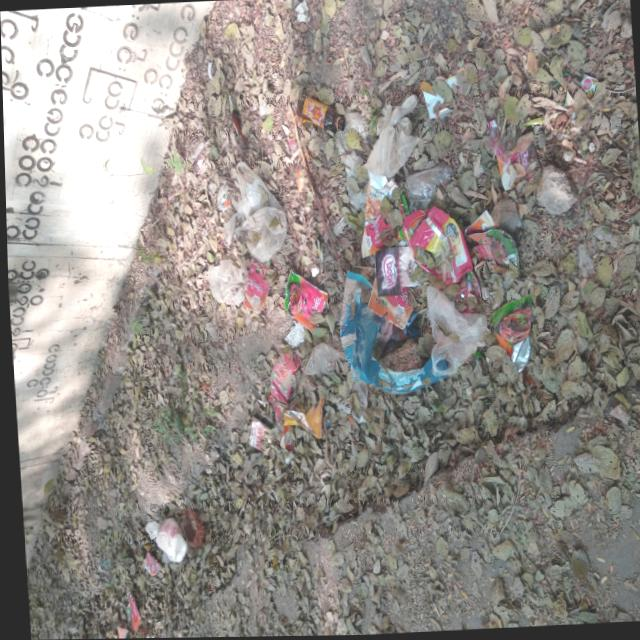Bottle-Glass: (286, 85, 348, 147)
Can-Metal: (131, 511, 184, 580)
Plastic: (325, 172, 416, 400), (477, 109, 549, 225), (355, 93, 433, 196), (227, 155, 293, 270), (396, 206, 472, 291), (485, 298, 539, 377), (273, 384, 329, 460), (277, 259, 329, 335), (422, 320, 483, 381), (259, 347, 302, 421), (198, 256, 249, 317), (239, 414, 272, 462), (117, 590, 142, 637), (108, 625, 127, 639)
